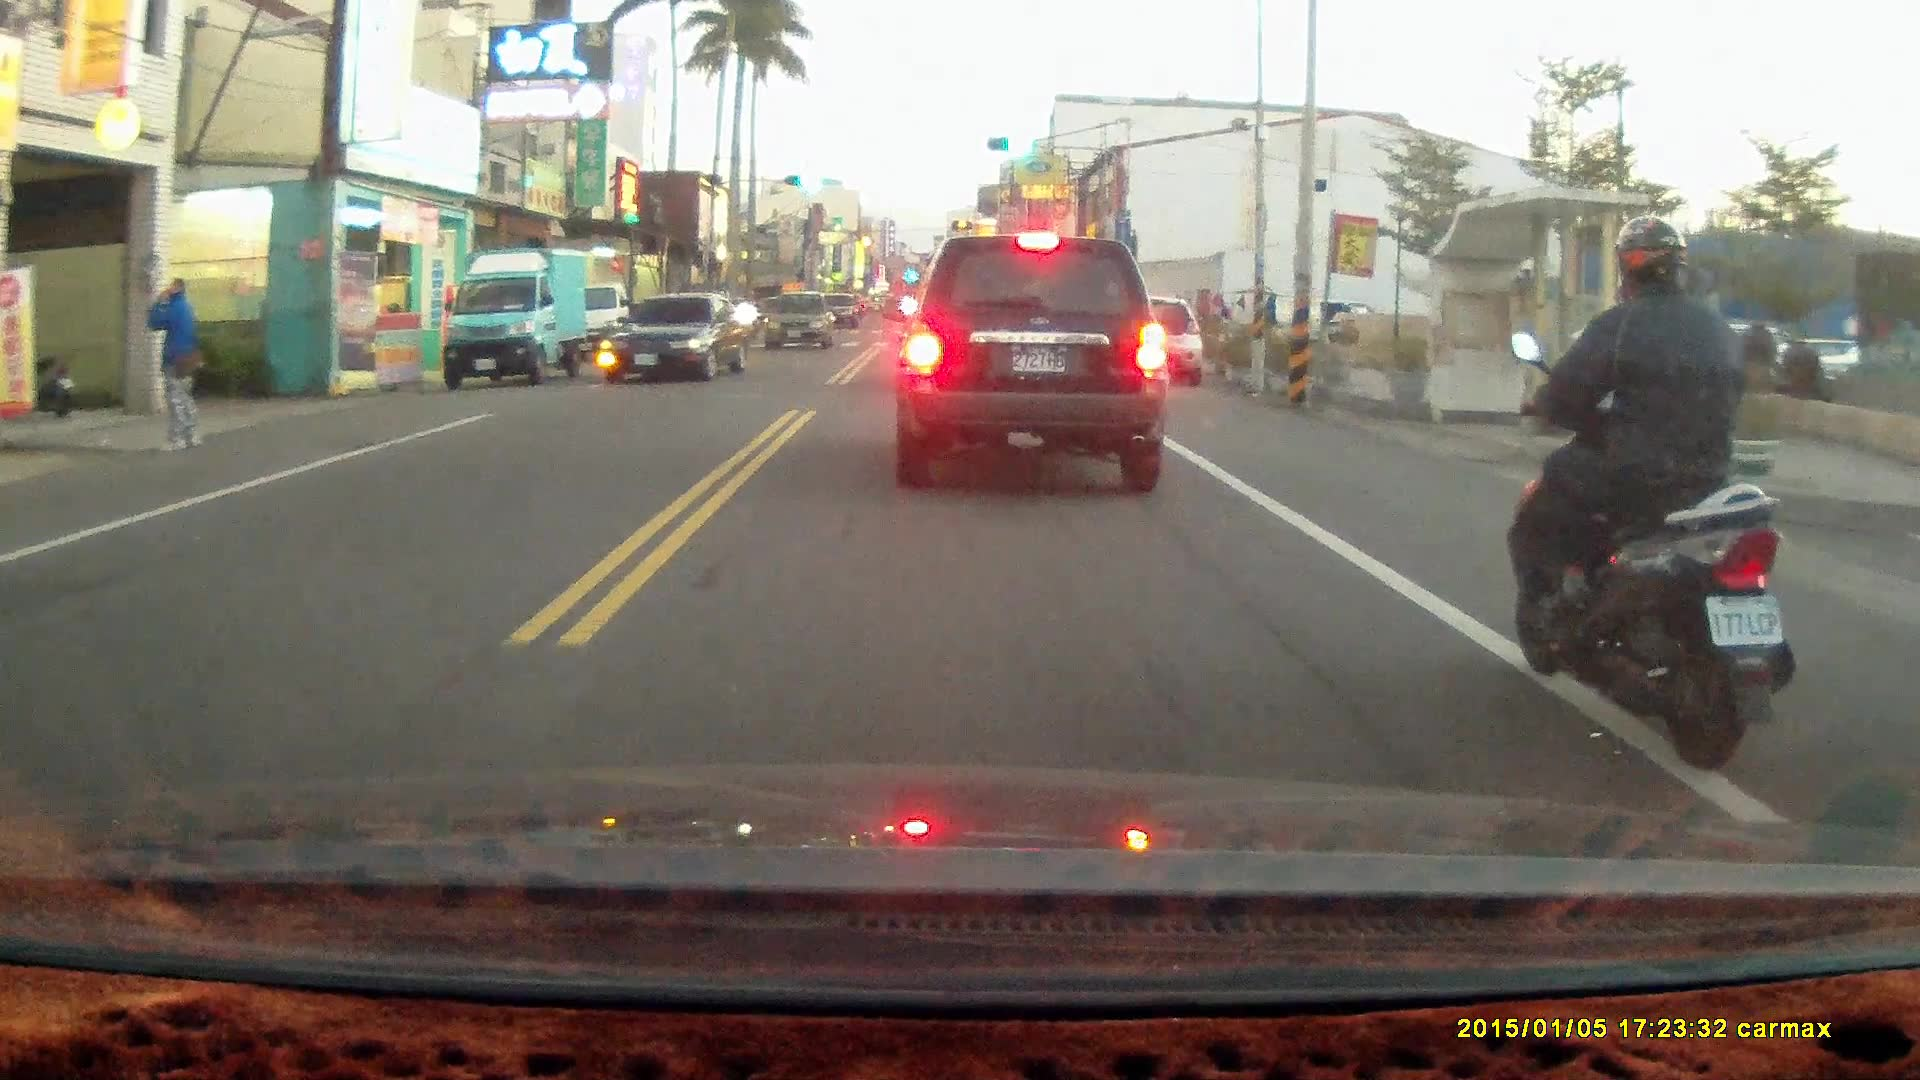pedestrian: (140, 277, 203, 455)
rider: (1504, 213, 1796, 775)
vehicle: (888, 236, 1171, 498), (439, 255, 583, 400), (599, 295, 760, 387), (1105, 294, 1207, 390), (761, 294, 834, 353)
